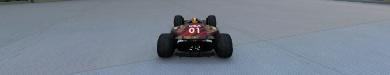Car: (156, 14, 233, 58)
